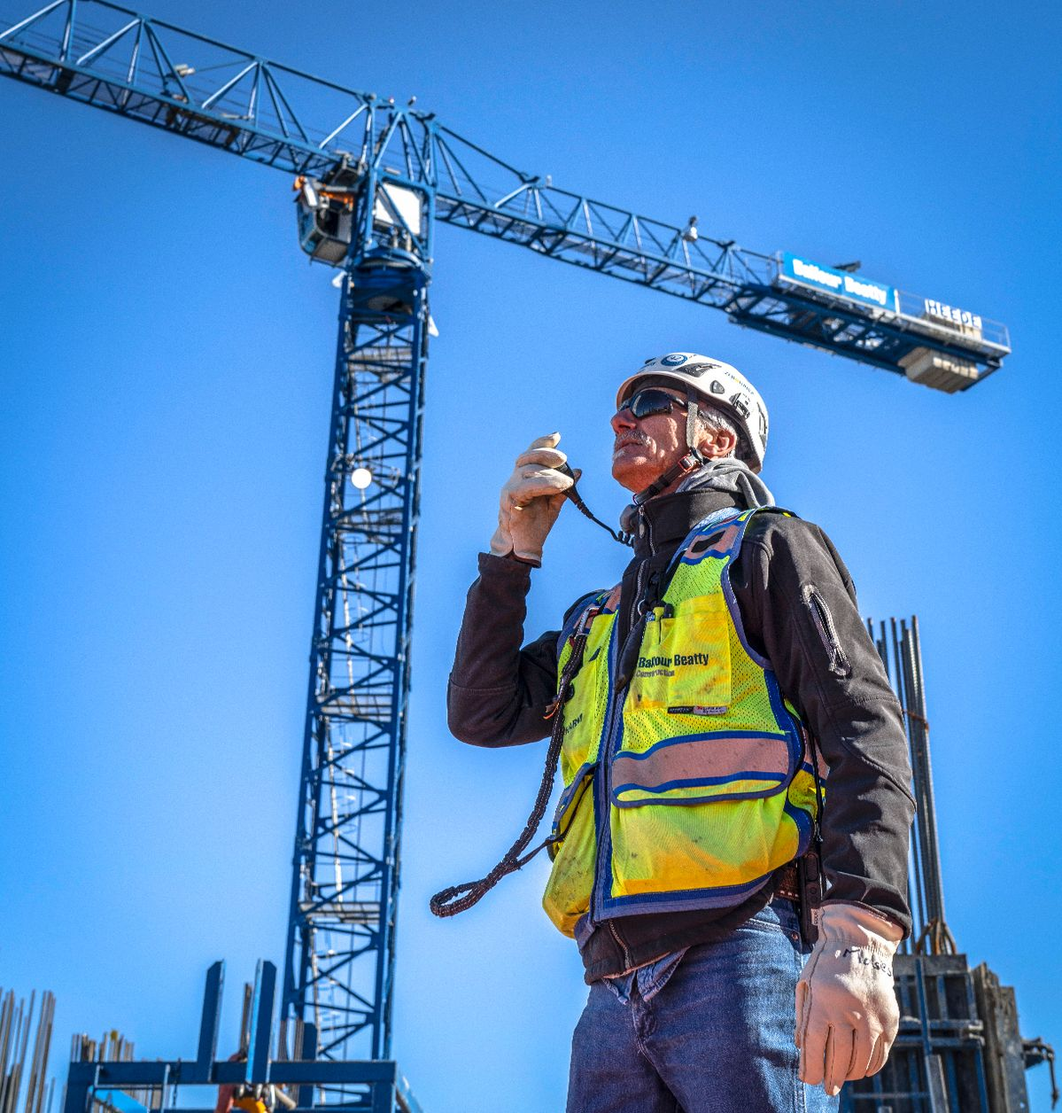hardhat: (611, 330, 781, 433)
person: (438, 300, 941, 1088)
safety_vest: (540, 550, 814, 922)
